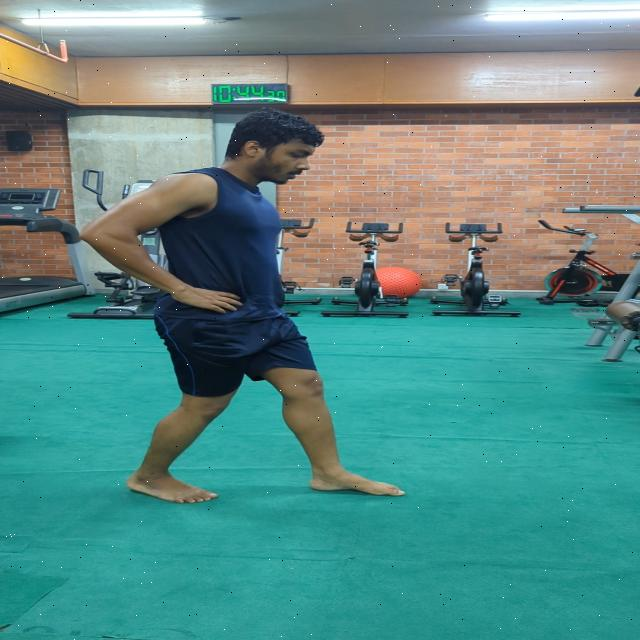Normal_Lunges: (46, 109, 418, 514)
